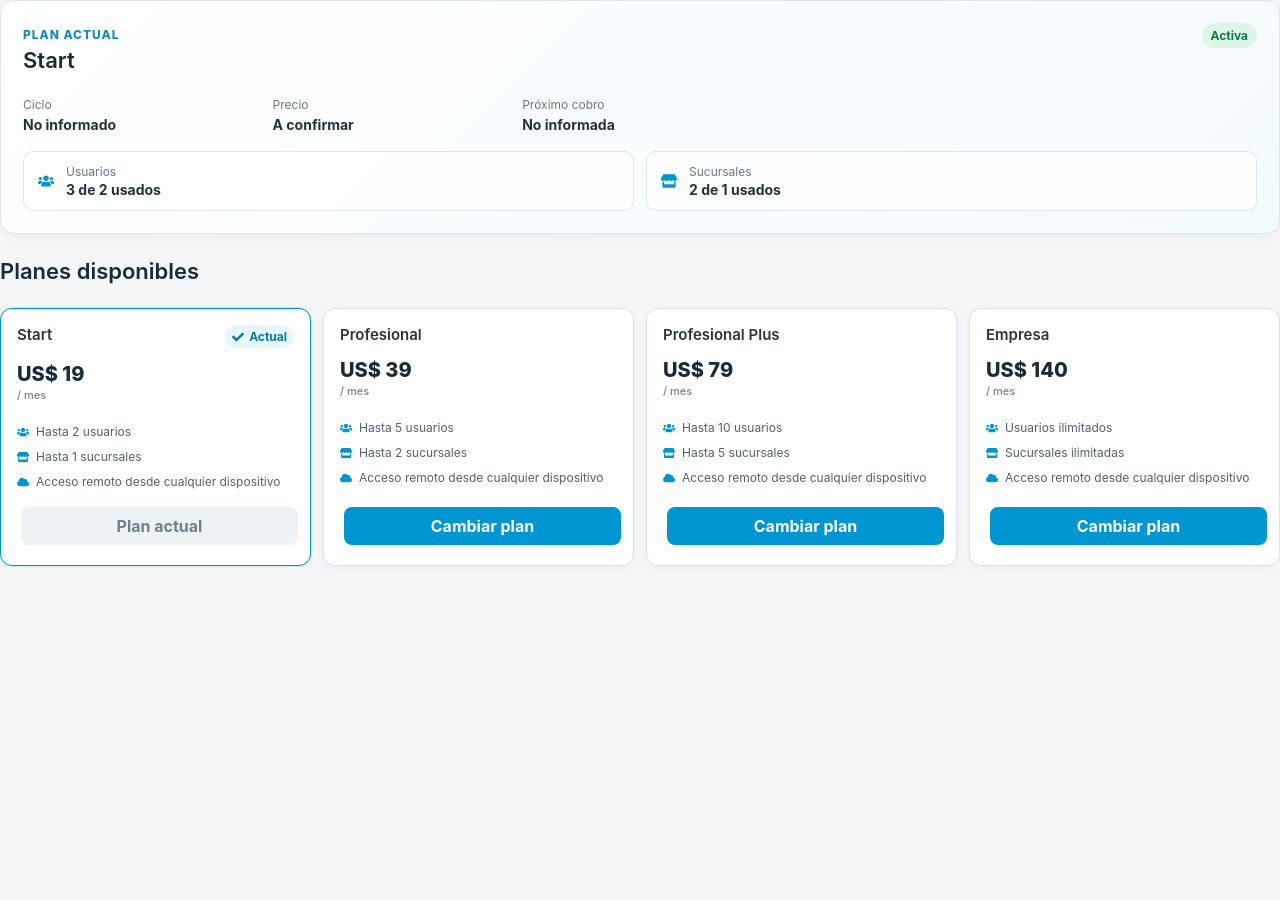
Test: el cambio abre un paso informativo y no confirma cargos ni persistencia
Click the button "Cambiar plan" below "Hasta 2 sucursales" at x=482, y=526, box [344,507,621,545]
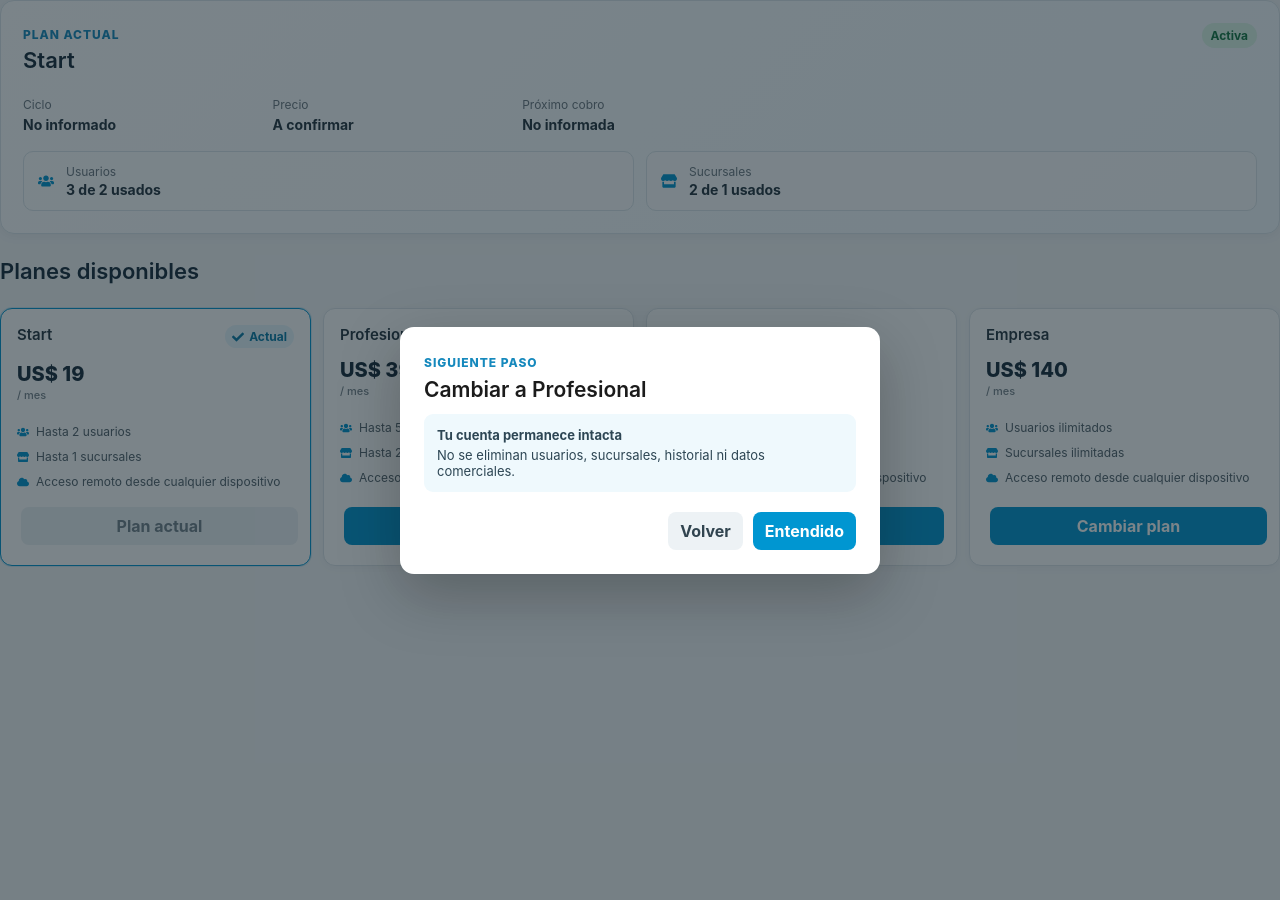
Check: the dialog shows "Tu cuenta permanece intacta", box [437,426,622,442]
Check: the dialog shows "No se eliminan usuarios, sucursales, historial ni datos comerciales.", box [437,446,765,478]
